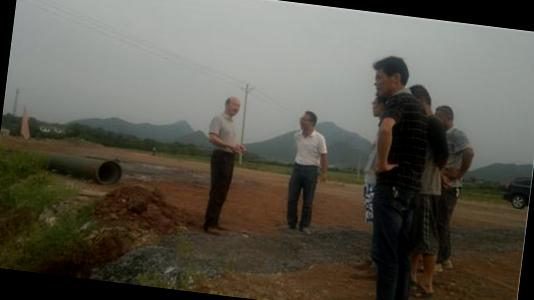no_helmet: (368, 51, 413, 101), (403, 82, 435, 120), (366, 89, 395, 123), (218, 92, 246, 121), (432, 103, 458, 134), (296, 106, 321, 135)
